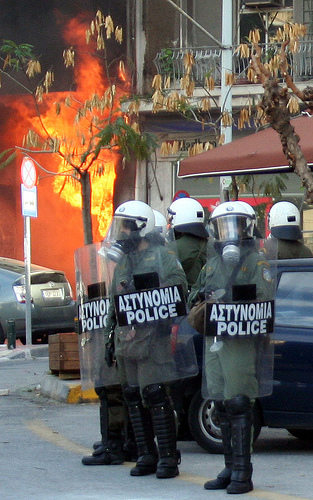fire: (24, 92, 131, 256)
